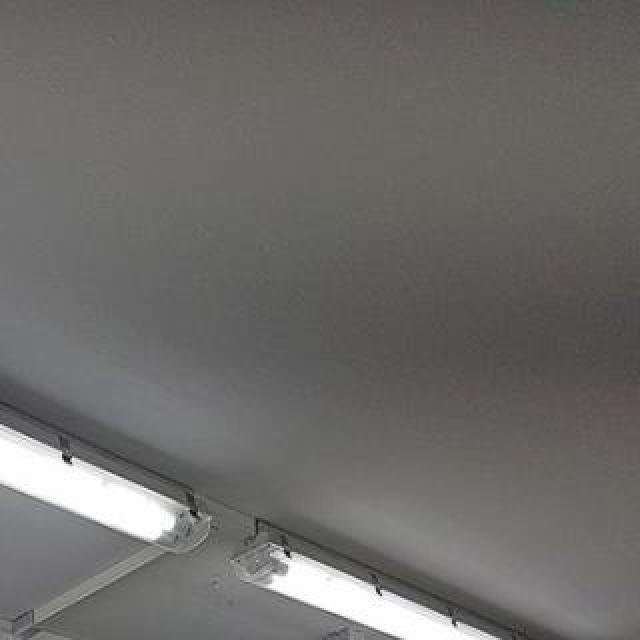fluorescent tube: (0, 126, 228, 564), (200, 480, 598, 640), (570, 630, 640, 640), (0, 634, 72, 640)
